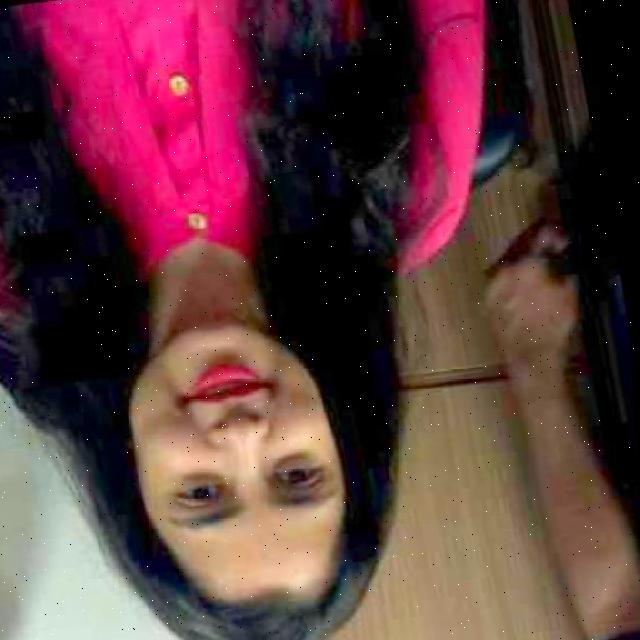puffy_eyes: (187, 474, 233, 491), (278, 455, 319, 472)
